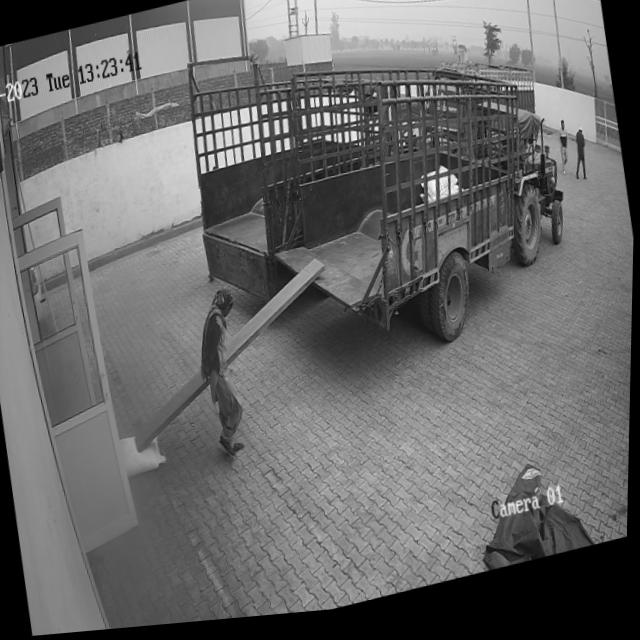sack: (120, 432, 170, 481)
